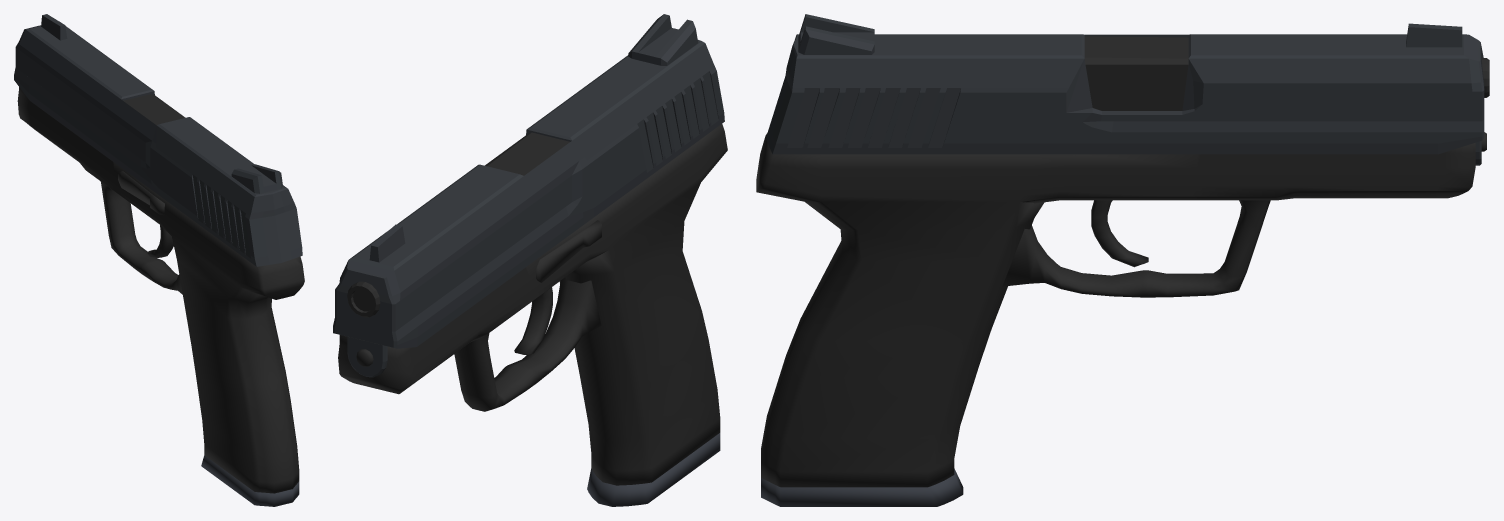
Rendered from usp-world.glb.
3 views of the same model, side by side, from view 1: azimuth 30°, elevation 25°; view 2: azimuth 150°, elevation 25°; view 3: azimuth 270°, elevation 25° (orthographic). The views are drawn at different scales.
Parts seen in each view (by area): view 1: Cabo, slide, magazine, Cano, Gatilho; view 2: Cabo, slide, Cano, magazine, Gatilho; view 3: Cabo, slide, Cano, magazine, Gatilho.
Boxes of the visible parts, x1,y1,x2,y2 form: Cabo: (17, 87, 304, 493); slide: (14, 14, 302, 266); magazine: (201, 455, 299, 506); Cano: (123, 94, 185, 125); Gatilho: (147, 225, 173, 257); Cabo: (338, 124, 727, 485); slide: (333, 14, 724, 377); Cano: (347, 132, 569, 317); magazine: (587, 433, 720, 506); Gatilho: (514, 287, 552, 354); Cabo: (756, 132, 1486, 487); slide: (766, 14, 1484, 165); Cano: (1084, 36, 1489, 110); magazine: (761, 468, 963, 506); Gatilho: (1091, 200, 1148, 267).
Bounding box in the file's own units: 0.0337 × 0.2048 × 0.29.
5 materials, 5 textured.
